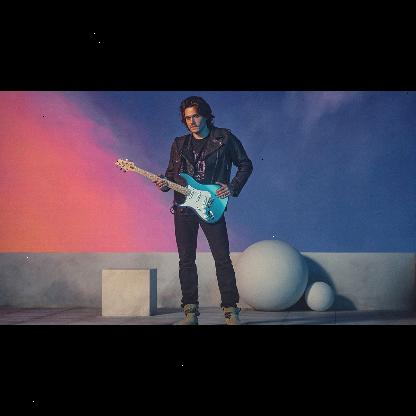guitar: (116, 157, 230, 223)
